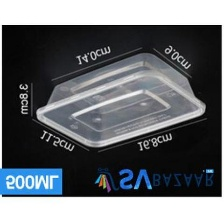plastic_box: (31, 46, 211, 153)
